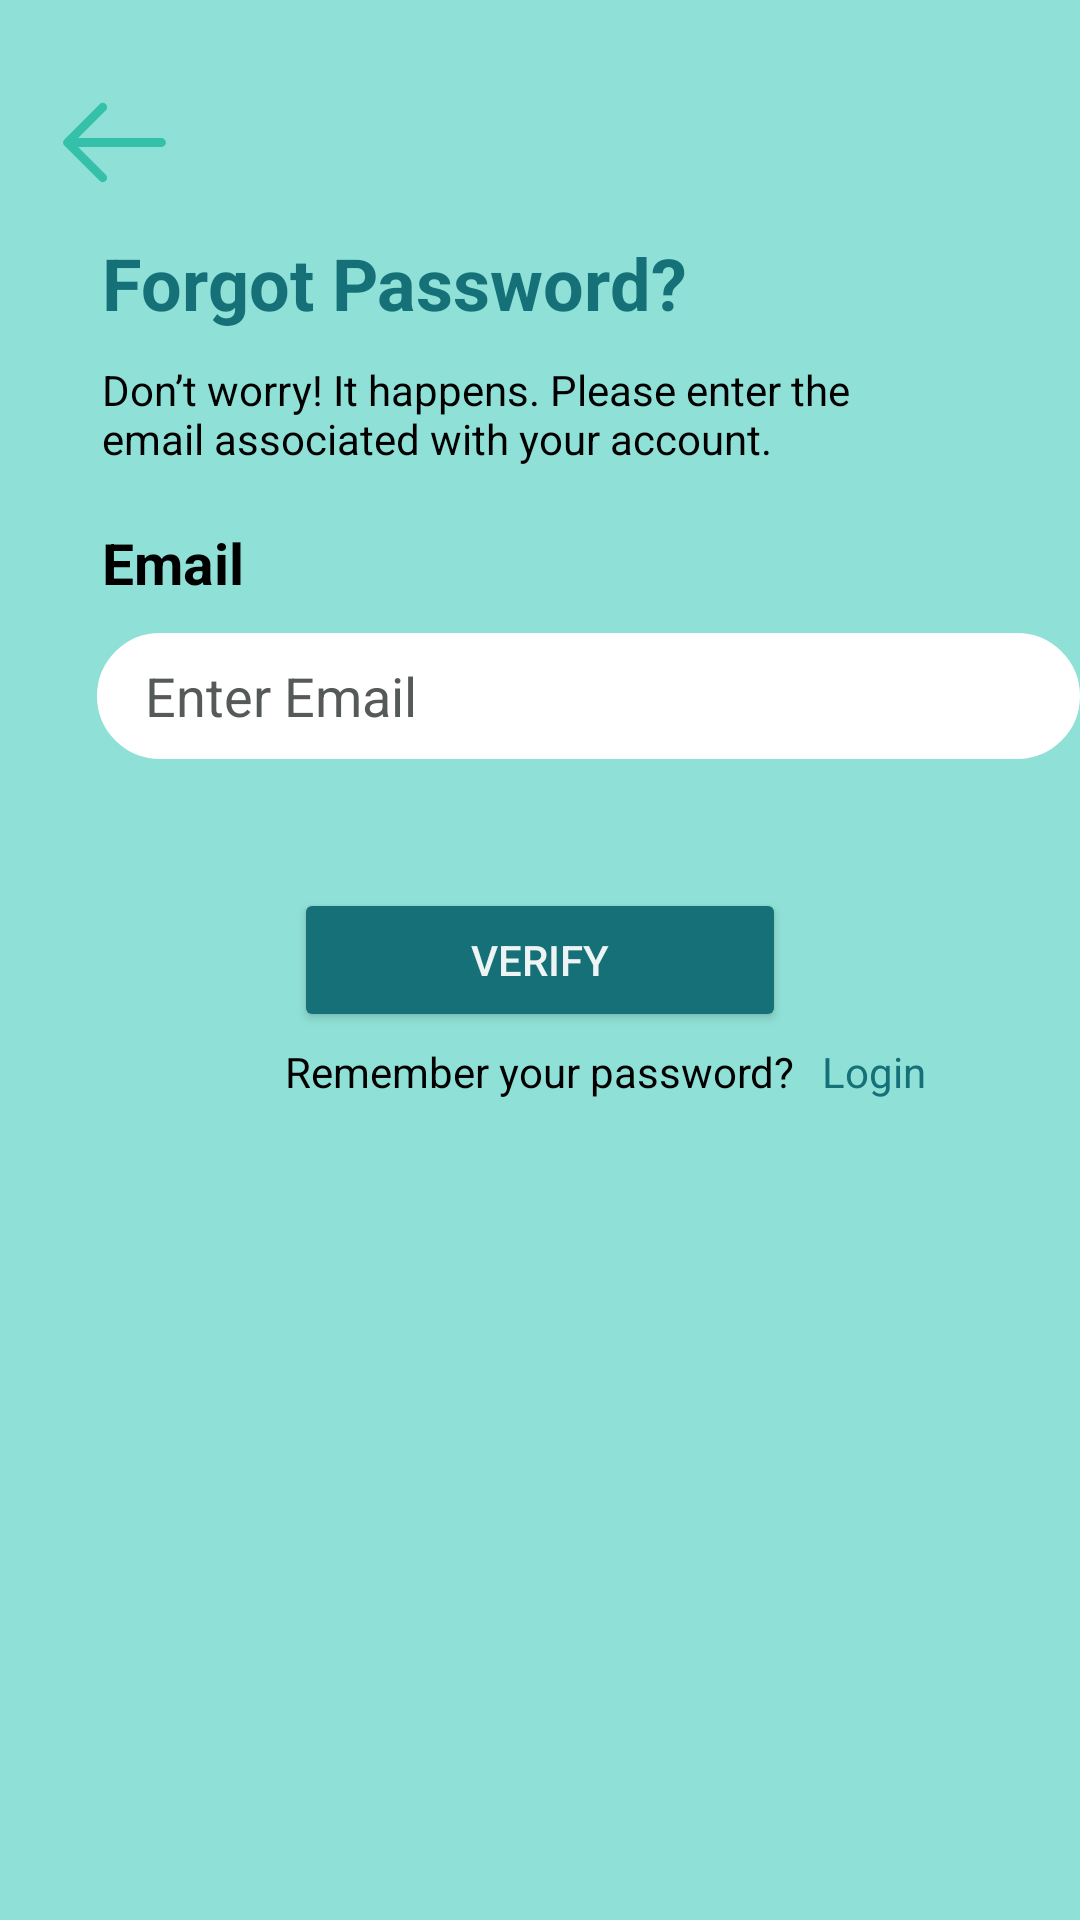

Screen size 1080*1920. Icon name, then its box in pixels as rect(x1, y1, x2, y2):
arrow left: rect(63, 103, 166, 182)
